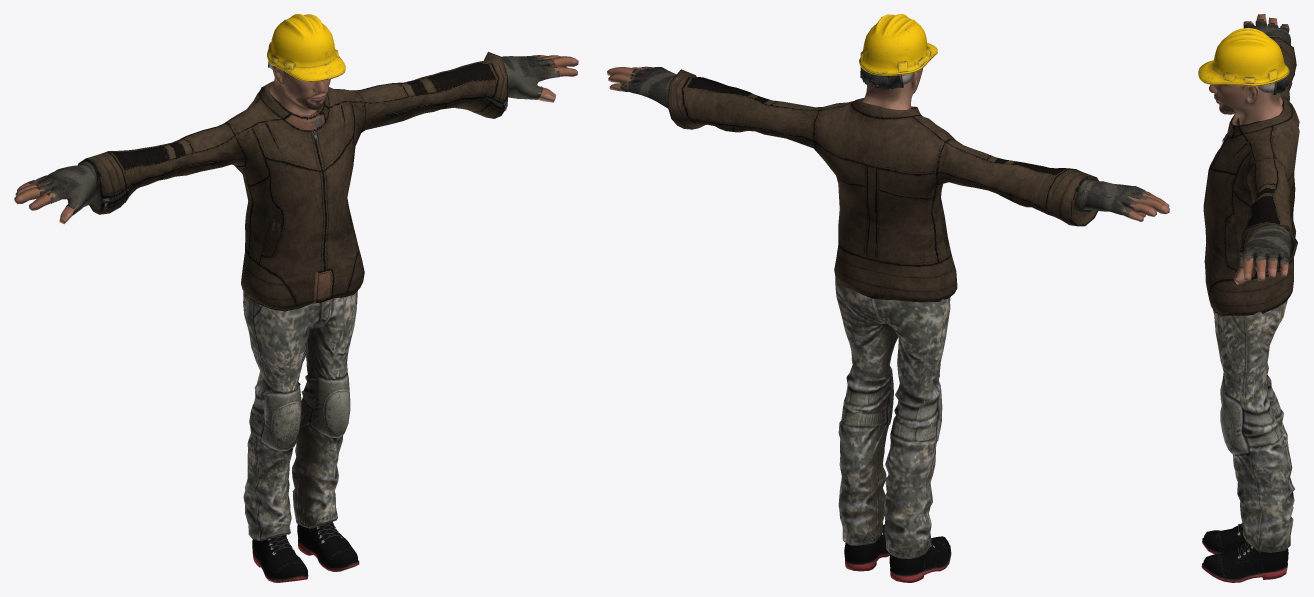
Rendered from main.obj.
3 views of the same model, side by side, from view 1: azimuth 30°, elevation 25°; view 2: azimuth 150°, elevation 25°; view 3: azimuth 270°, elevation 25° (orthographic). The views are drawn at different scales.
Parts seen in each view (by area): view 1: Tops, Bottoms, Shoes, Gloves, Hats, Body; view 2: Tops, Bottoms, Hats, Gloves, Shoes, Body; view 3: Tops, Bottoms, Hats, Shoes, Body, Gloves.
Boxes of the visible parts, x1,y1,x2,y2 form: Tops: (78,52,508,311); Bottoms: (243,290,357,540); Shoes: (252,521,359,582); Gloves: (28,55,559,215); Hats: (267,14,345,81); Body: (14,55,578,224); Tops: (667,69,1098,302); Bottoms: (835,278,950,558); Hats: (859,14,937,89); Gloves: (620,67,1150,217); Shoes: (844,524,951,582); Body: (607,66,1169,221); Tops: (1203,37,1299,315); Bottoms: (1213,300,1294,552); Hats: (1198,27,1290,94); Shoes: (1201,523,1288,582); Body: (1209,14,1288,284); Gloves: (1239,19,1291,270).
Size of the model in its own units: 203 by 189 by 32.72.
Materials: 6 (6 with a texture image).
